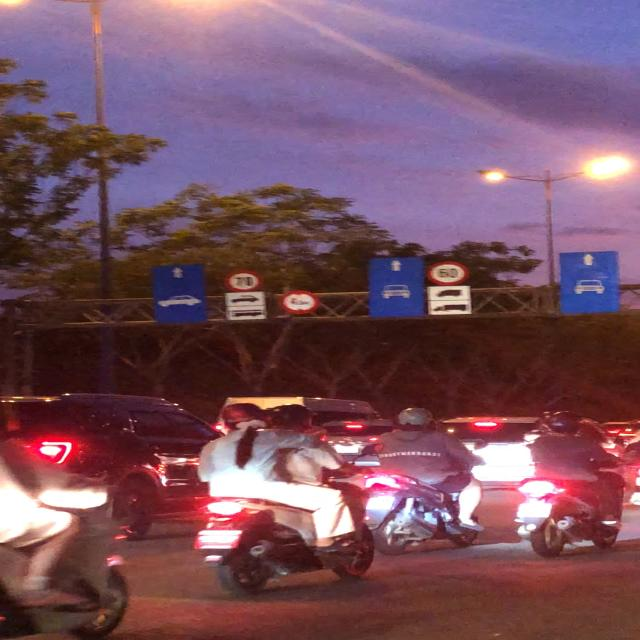Bien bao han che chieu cao: (276, 289, 324, 315)
Bien bao toc do toi da cho phep: (423, 258, 468, 287), (220, 268, 265, 293)
